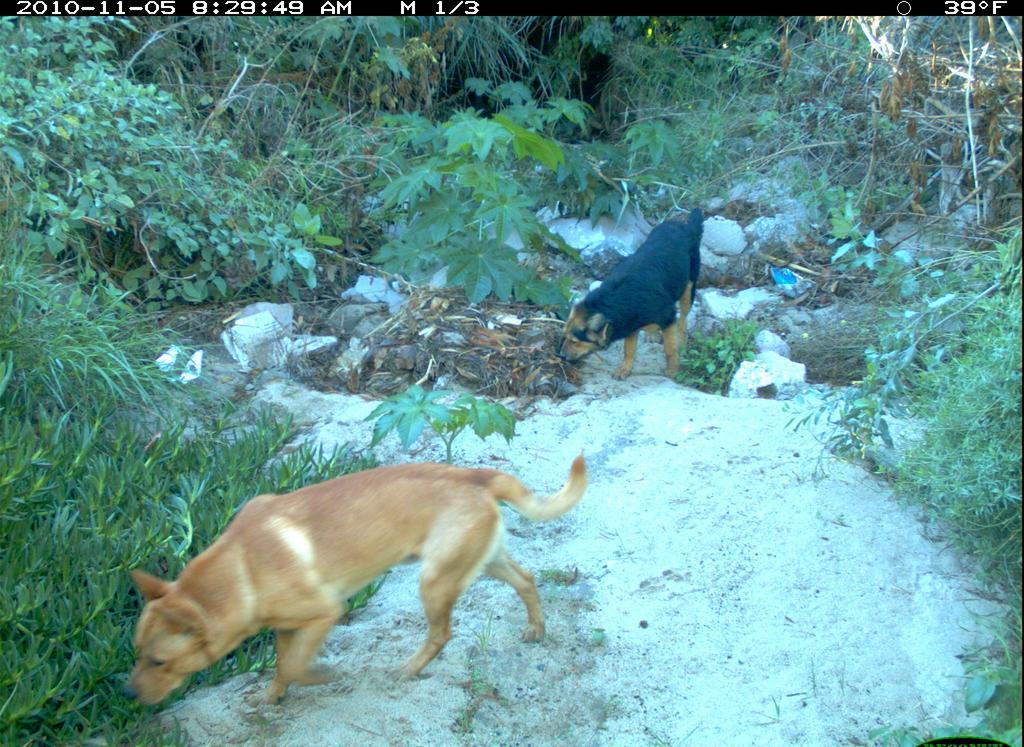dog: (116, 449, 598, 719), (543, 208, 733, 423)
